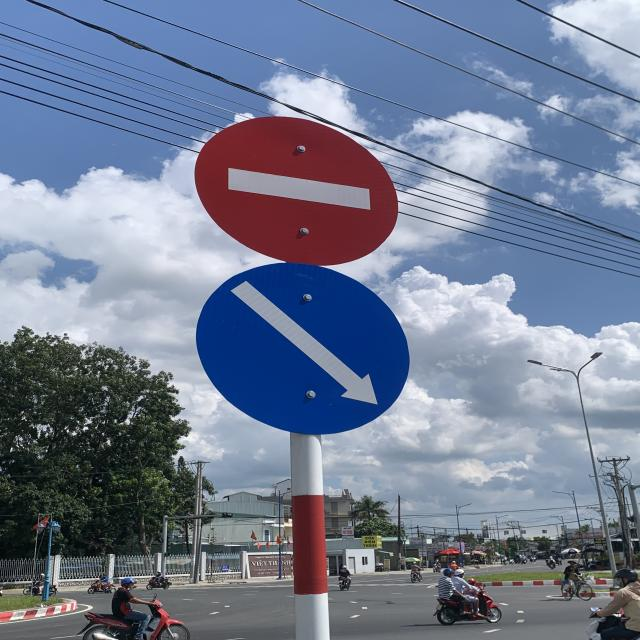Cam_Di_Nguoc_Chieu: (195, 114, 400, 264)
Chi_Huong_Di_Phai: (199, 262, 412, 438)
